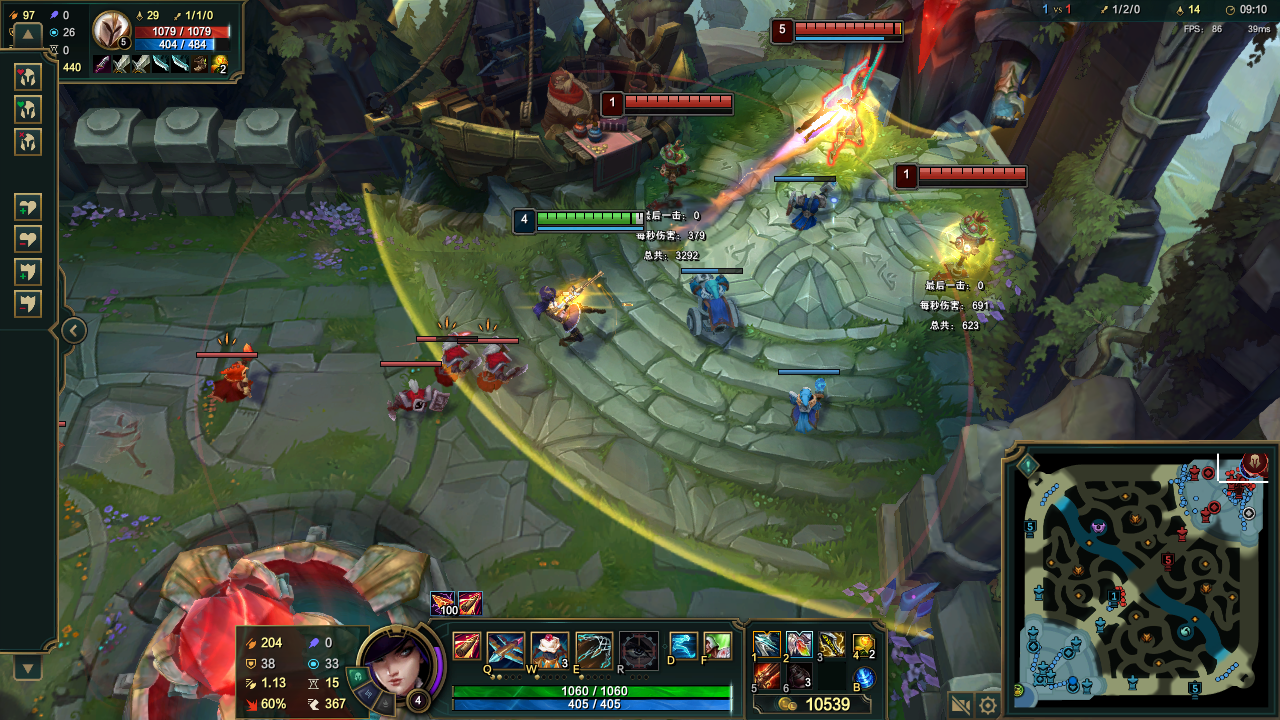DFDSJ: (163, 538, 371, 623)
DFYX: (629, 90, 735, 106), (923, 163, 1028, 179), (795, 22, 907, 35)
